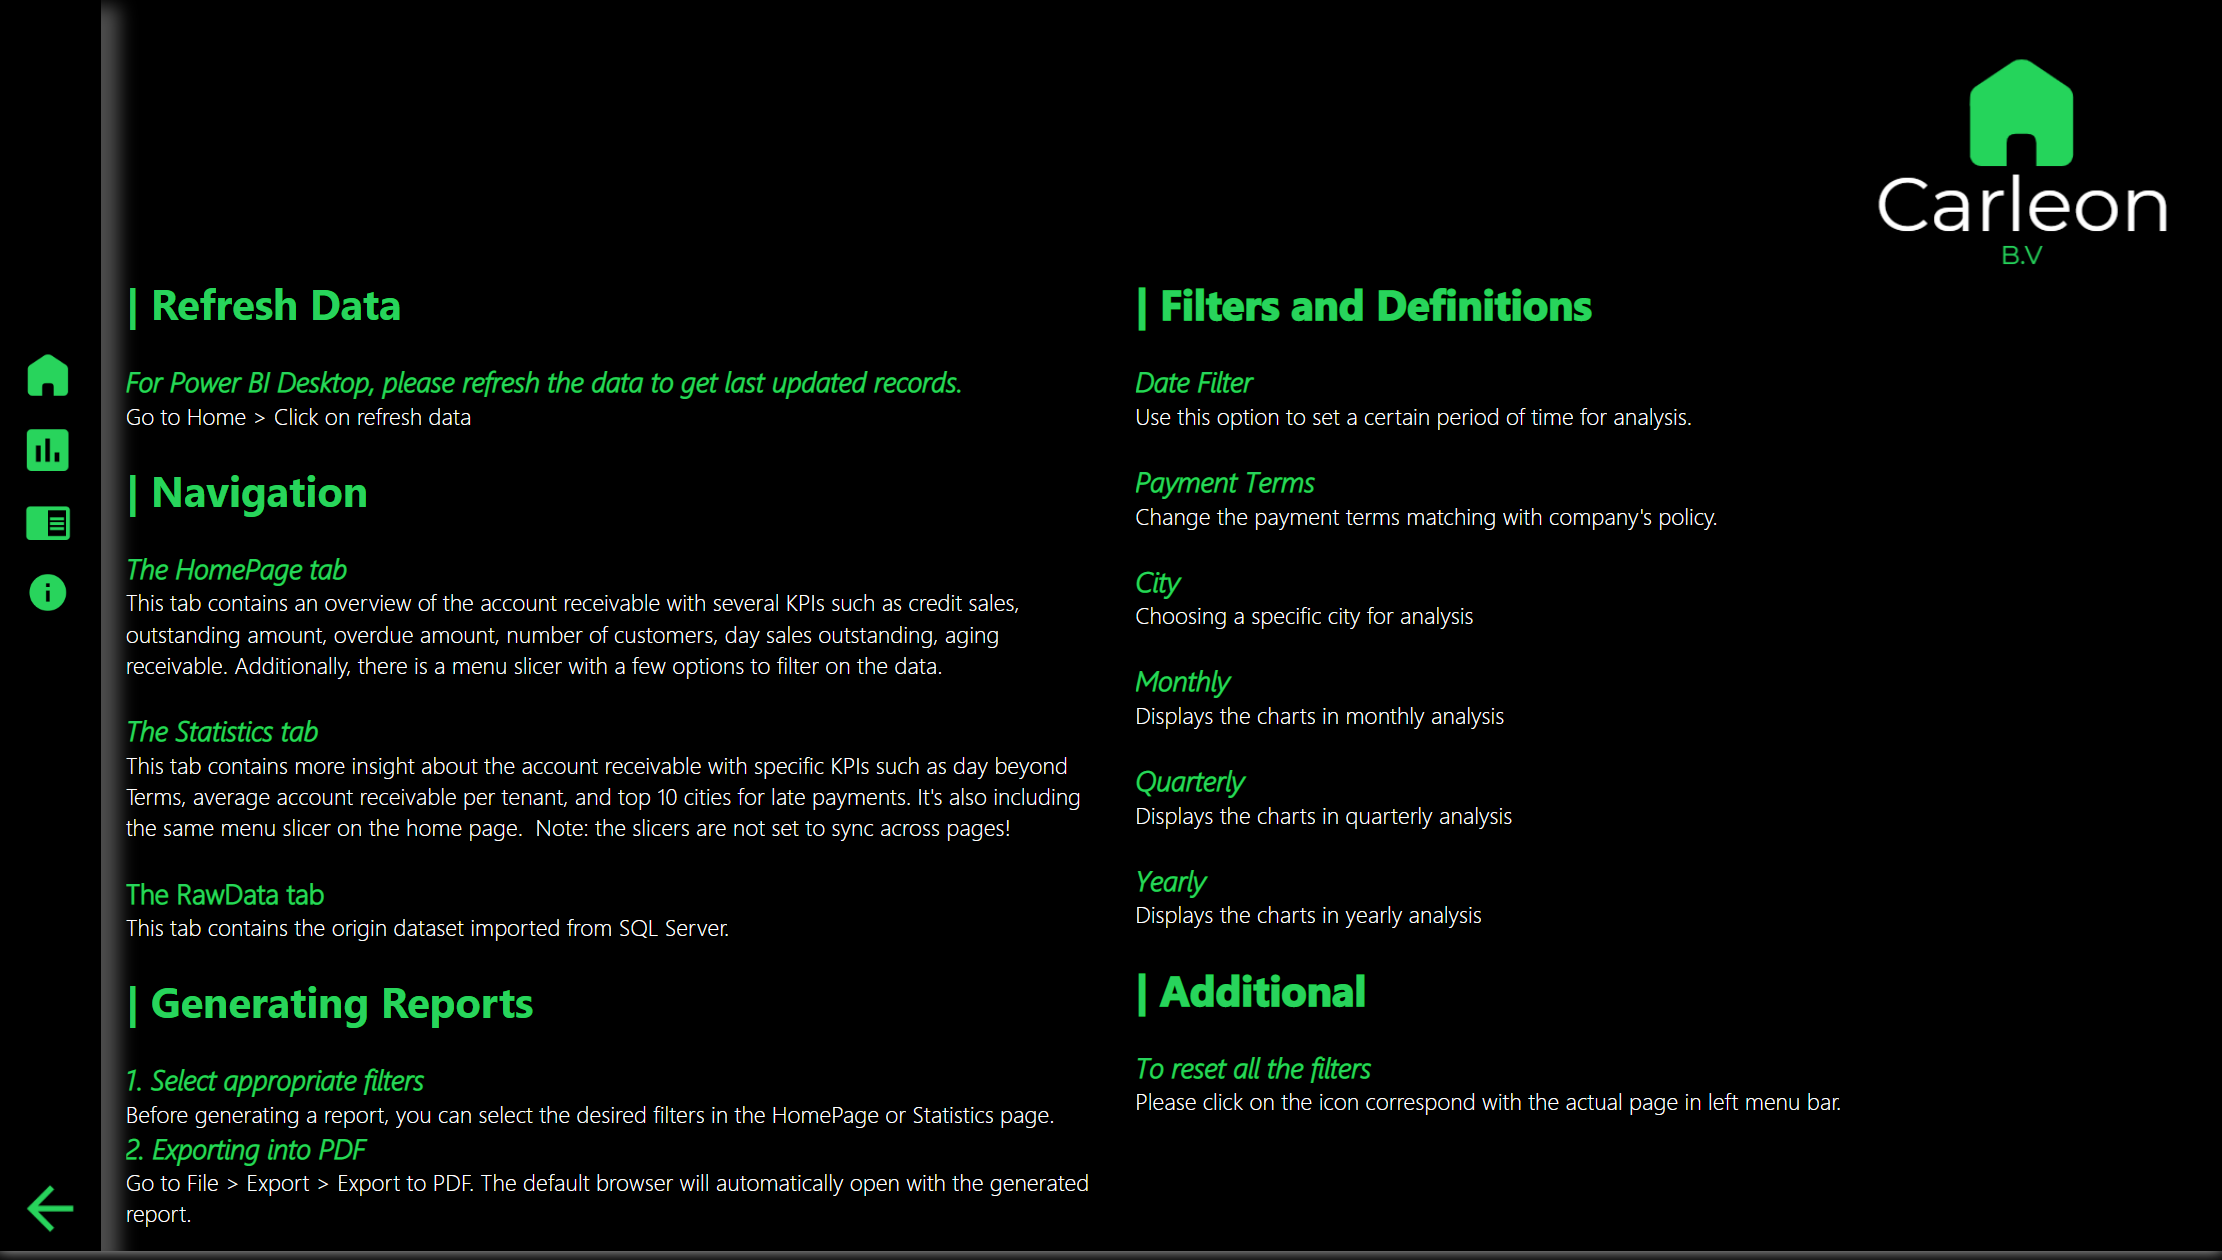

Layout of this report page (visuals, bound fields, positions):
{"tool":"powerbi","page":{"name":"InfoPage","canvas":[1280,720],"ordinal":3},"visuals":[{"type":"image","box":[1074.7,12.1,182,167.3],"z":0},{"type":"group","id":"g1","title":"Group 2","box":[0,0,59.9,720.2],"z":1000},{"type":"group","id":"g2","title":"Group 3","box":[0,0,59.9,720.1],"z":2000,"group":"g1"},{"type":"textbox","box":[69,153.5,571,566.7],"z":2000},{"type":"basicShape","box":[0,0,59.9,720.1],"z":3000,"group":"g2"},{"type":"textbox","box":[649.5,153.5,622.7,558.9],"z":3000},{"type":"image","box":[5.2,670.2,50,50],"z":3000,"group":"g1"},{"type":"image","box":[12.1,198.4,34.5,37.1],"z":5000,"group":"g2"},{"type":"image","box":[7.8,238.1,42.3,43.1],"z":7000,"group":"g2"},{"type":"image","box":[10.4,281.2,38,39.7],"z":9000,"group":"g2"},{"type":"image","box":[11.2,322.6,35.4,37.1],"z":11000,"group":"g2"}]}

Visuals, with their boxes on the page's 1280x720 design canvas (x1, y1, x2, y2). These are canvas units, not pixel positions in the 2222x1260 screenshot, which may show the page scaled, cropped or inside an application window:
image: bbox=[1075, 12, 1257, 179]
"Group 2" group: bbox=[0, 0, 60, 720]
"Group 3" group: bbox=[0, 0, 60, 720]
textbox: bbox=[69, 154, 640, 720]
basicShape: bbox=[0, 0, 60, 720]
textbox: bbox=[650, 154, 1272, 712]
image: bbox=[5, 670, 55, 720]
image: bbox=[12, 198, 47, 236]
image: bbox=[8, 238, 50, 281]
image: bbox=[10, 281, 48, 321]
image: bbox=[11, 323, 47, 360]
